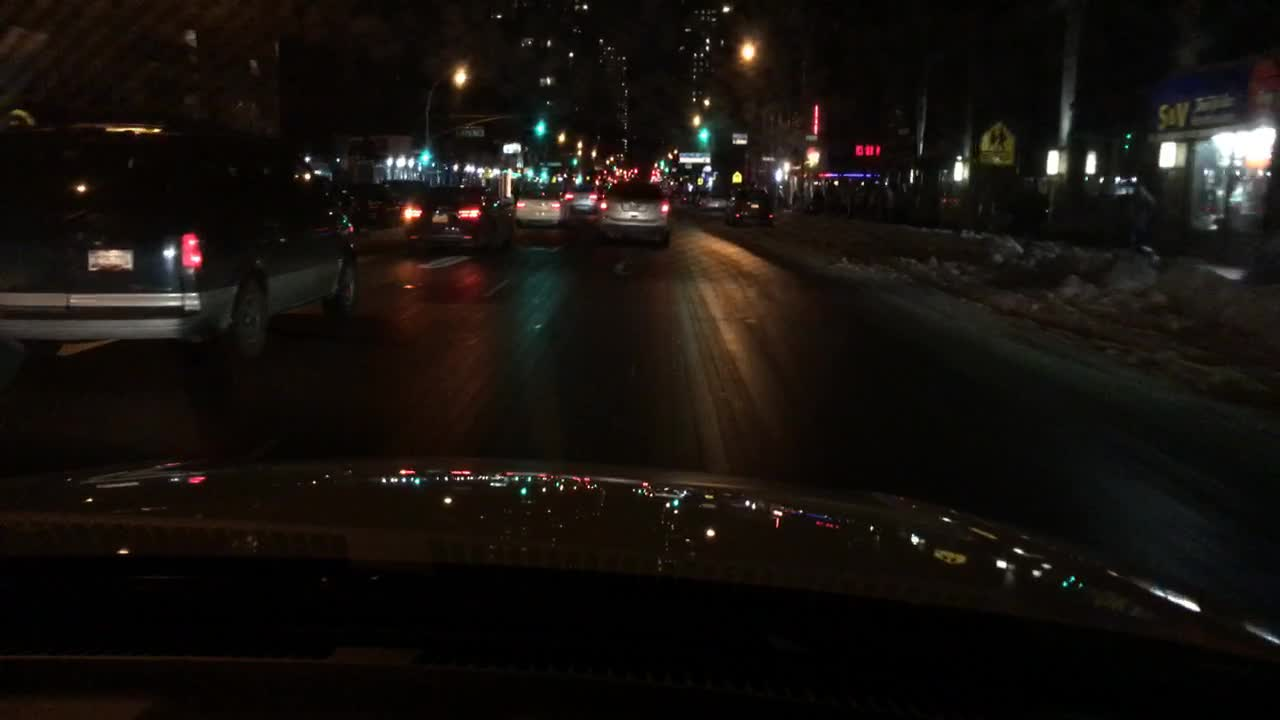car: (0, 124, 358, 369), (401, 182, 514, 255), (350, 178, 433, 248), (600, 178, 671, 237), (510, 183, 567, 225), (728, 186, 777, 224), (560, 182, 605, 219), (696, 186, 735, 221)
traffic light: (533, 117, 549, 139), (696, 125, 711, 144), (415, 147, 432, 163), (538, 170, 550, 183), (523, 170, 534, 183), (569, 155, 579, 166)
traffic sign: (978, 121, 1019, 164), (679, 151, 710, 164), (455, 126, 485, 137)
